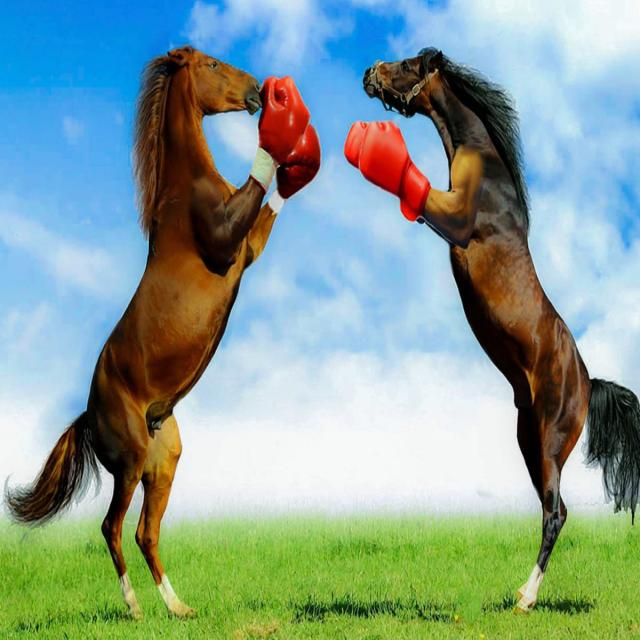horse: (354, 42, 640, 482), (114, 41, 261, 535)
